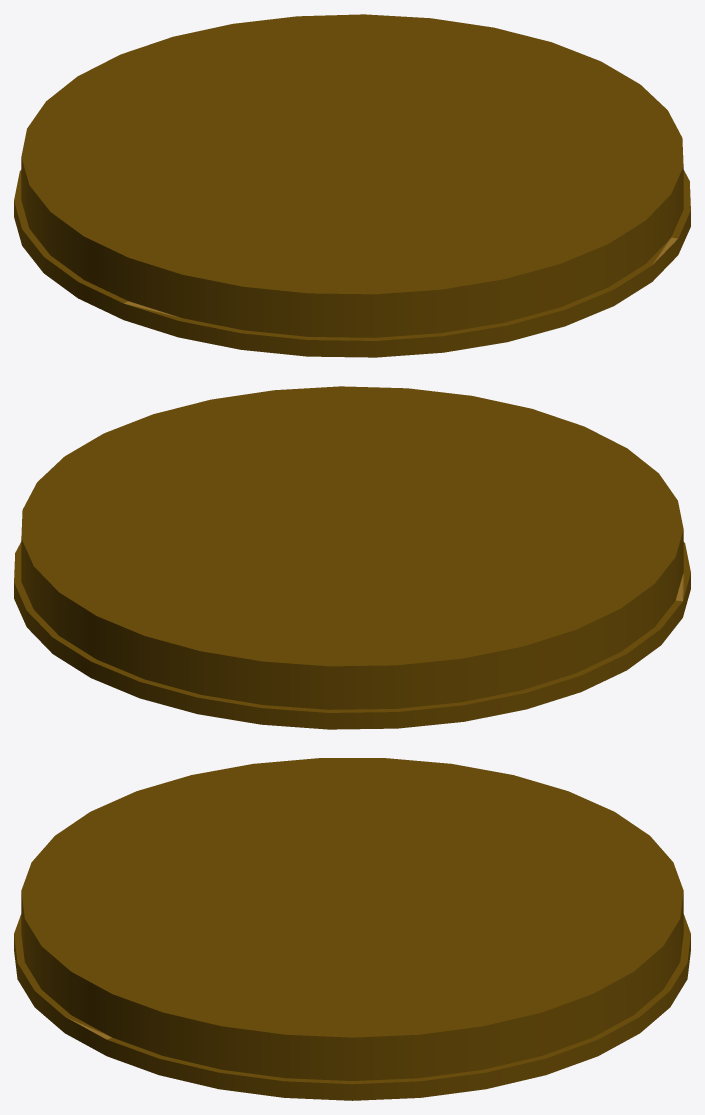
File: bottenbun.FBX
The picture shows the model from 3 angles, top to bottom: view 1: azimuth 30°, elevation 25°; view 2: azimuth 150°, elevation 25°; view 3: azimuth 270°, elevation 25°; orthographic projection.
Visible parts, largest first — view 1: Cylinder001; view 2: Cylinder001; view 3: Cylinder001.
Boxes of the visible parts, box(x1,y1,x2,y2) form: Cylinder001: box(14, 14, 690, 357); Cylinder001: box(14, 386, 690, 729); Cylinder001: box(14, 758, 690, 1100).
Bounding box in the file's own units: 64.28 × 6.3 × 64.36.
Materials: 1 (1 with a texture image).
